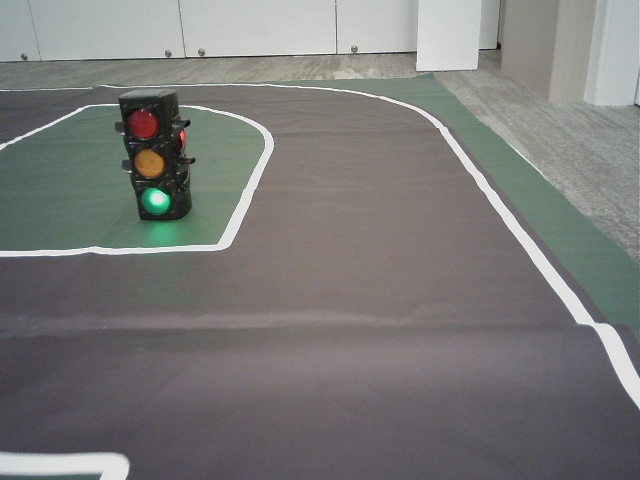green: (121, 103, 175, 213)
